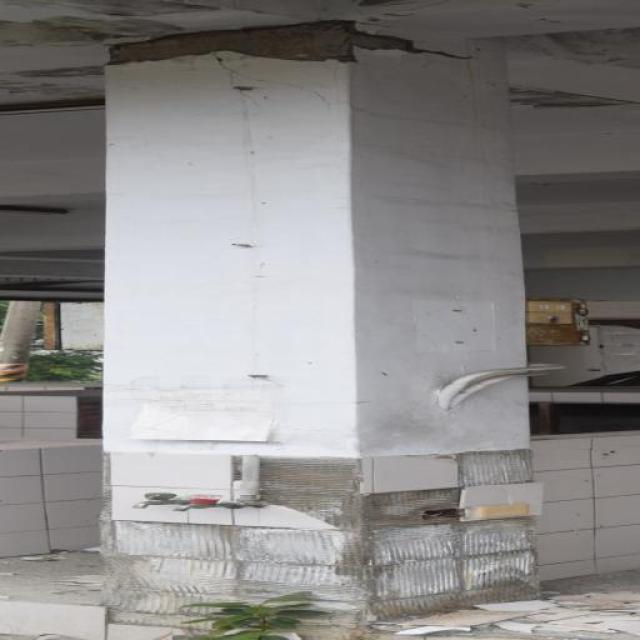D10: (105, 20, 441, 65)
